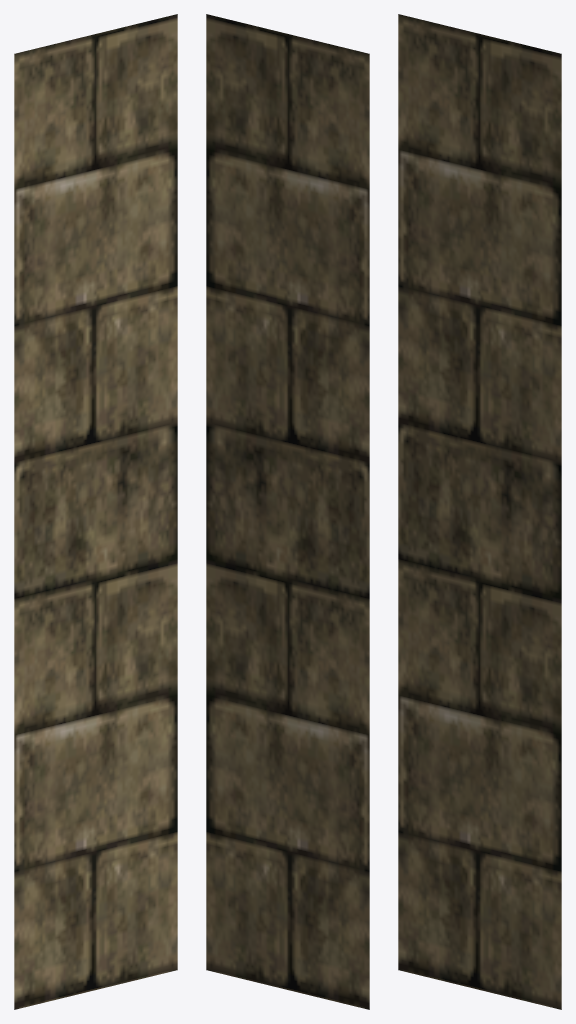
File: OVERHILL_A_01_OBJECT144.fbx
3 views of the same model, side by side, from view 1: azimuth 30°, elevation 25°; view 2: azimuth 150°, elevation 25°; view 3: azimuth 330°, elevation 25° (orthographic).
Parts seen in each view (by area): view 1: OVERHILL_A_01_OBJECT144; view 2: OVERHILL_A_01_OBJECT144; view 3: OVERHILL_A_01_OBJECT144.
Part boxes in pixels (left/top/right/bottom): OVERHILL_A_01_OBJECT144: left=14, top=14, right=177, bottom=1009; OVERHILL_A_01_OBJECT144: left=206, top=14, right=369, bottom=1009; OVERHILL_A_01_OBJECT144: left=398, top=14, right=561, bottom=1009.
Bounding box in the file's own units: 9935 × 55514 × 0.00904.
Materials: 1 (1 with a texture image).
